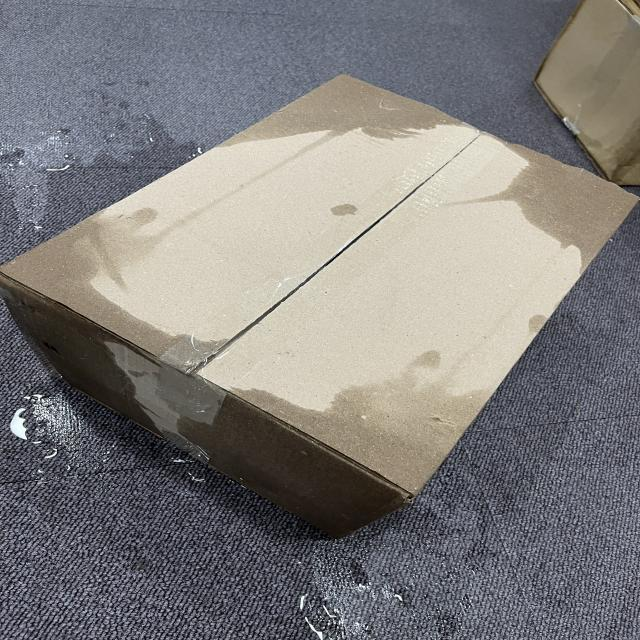wet: (187, 362, 477, 519), (13, 228, 161, 426), (223, 77, 471, 159), (492, 150, 640, 252)
